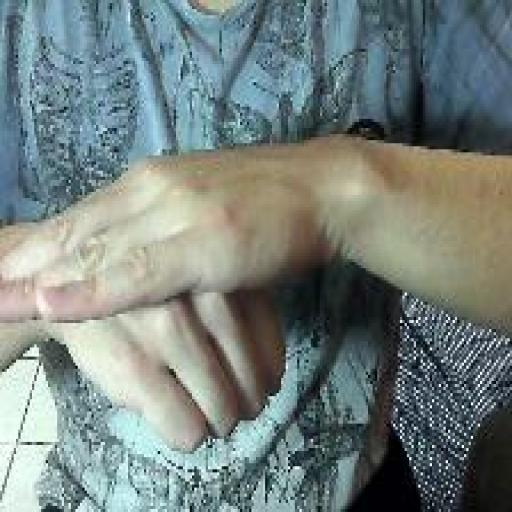Inu -dog-: (0, 152, 293, 458)
